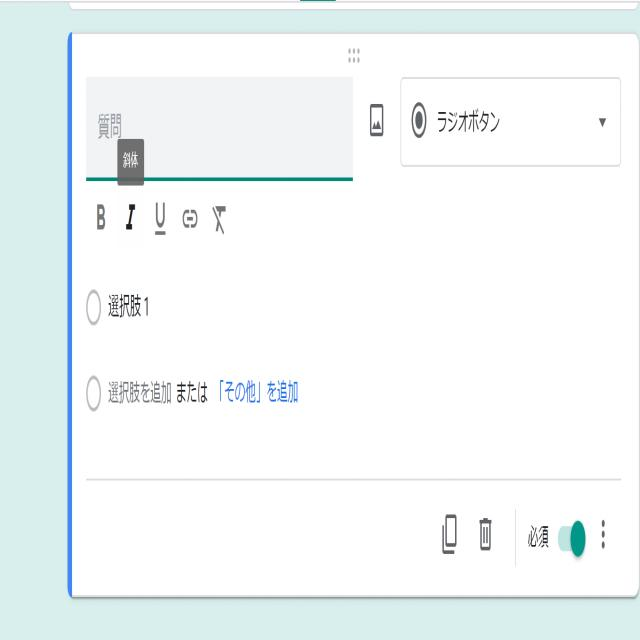radio: (411, 97, 427, 138)
toggle: (555, 516, 586, 561)
